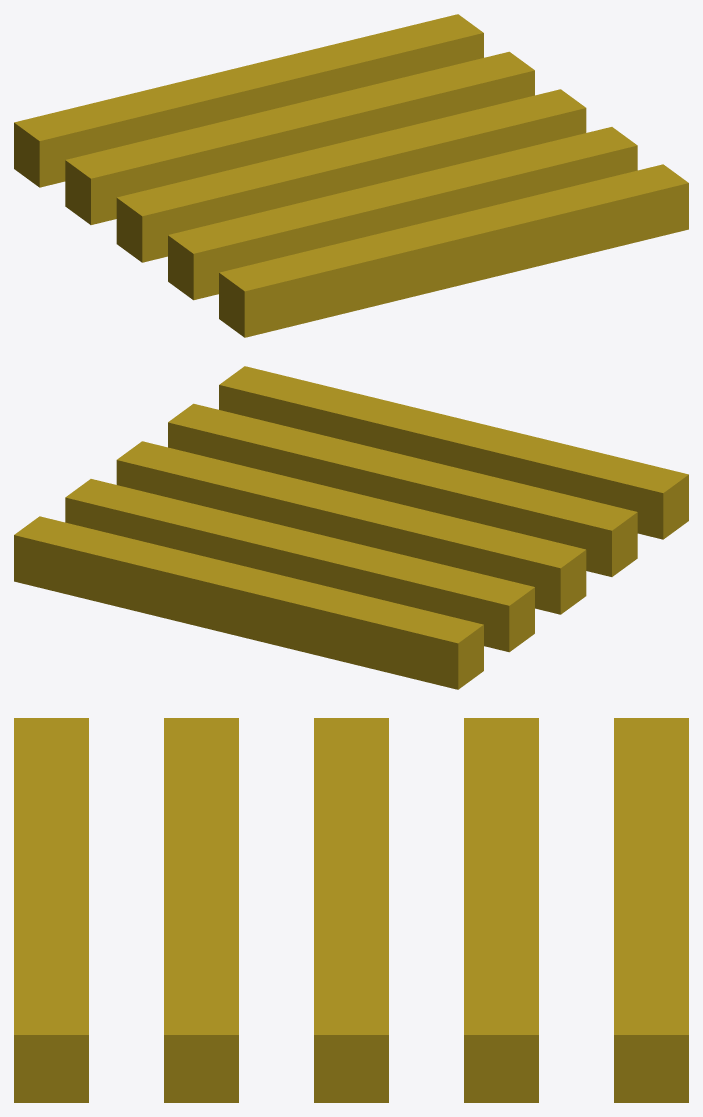
The model's file is FirstLevelFridgeLight.obj.
3 renders of one model, top to bottom at view 1: azimuth 30°, elevation 25°; view 2: azimuth 150°, elevation 25°; view 3: azimuth 270°, elevation 25°, orthographic. The views are drawn at different scales.
Bounding box in the file's own units: 10 × 1 × 9.
1 material, 1 textured.
